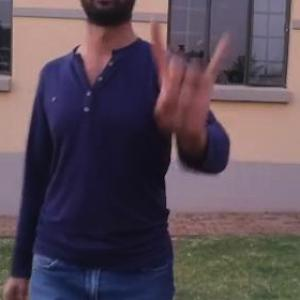takeoff-hand: (137, 18, 238, 138)
